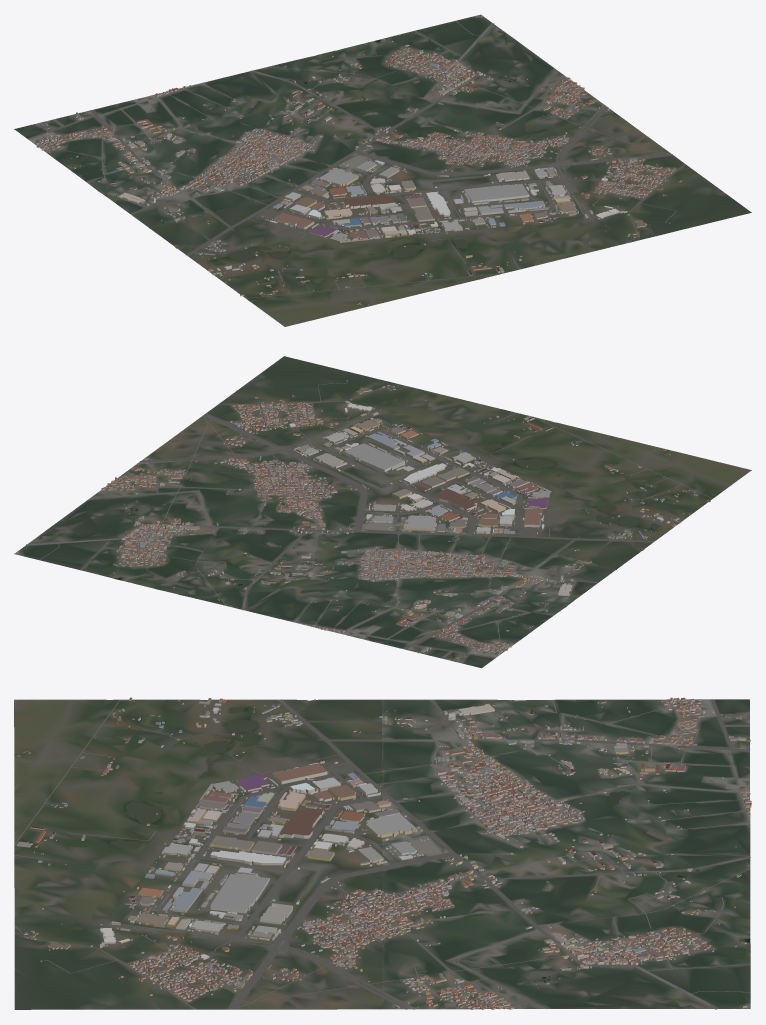
3 views of the same model, one above another, from view 1: azimuth 30°, elevation 25°; view 2: azimuth 150°, elevation 25°; view 3: azimuth 270°, elevation 25° (orthographic). The views are drawn at different scales.
Visible parts, largest first — view 1: ground, buildings, roads, water; view 2: ground, buildings, roads, water; view 3: ground, buildings, roads, water.
Part boxes in pixels (left/top/right/bottom): ground: left=14, top=15, right=751, bottom=326; buildings: left=32, top=14, right=681, bottom=305; roads: left=27, top=20, right=685, bottom=298; water: left=191, top=39, right=519, bottom=265; ground: left=14, top=356, right=751, bottom=668; buildings: left=17, top=380, right=710, bottom=659; roads: left=26, top=381, right=712, bottom=662; water: left=115, top=443, right=659, bottom=603; ground: left=14, top=699, right=750, bottom=1009; buildings: left=17, top=697, right=751, bottom=1009; roads: left=14, top=699, right=750, bottom=1009; water: left=110, top=707, right=750, bottom=982.
Bounding box in the file's own units: 2814 × 32.3 × 2812.
